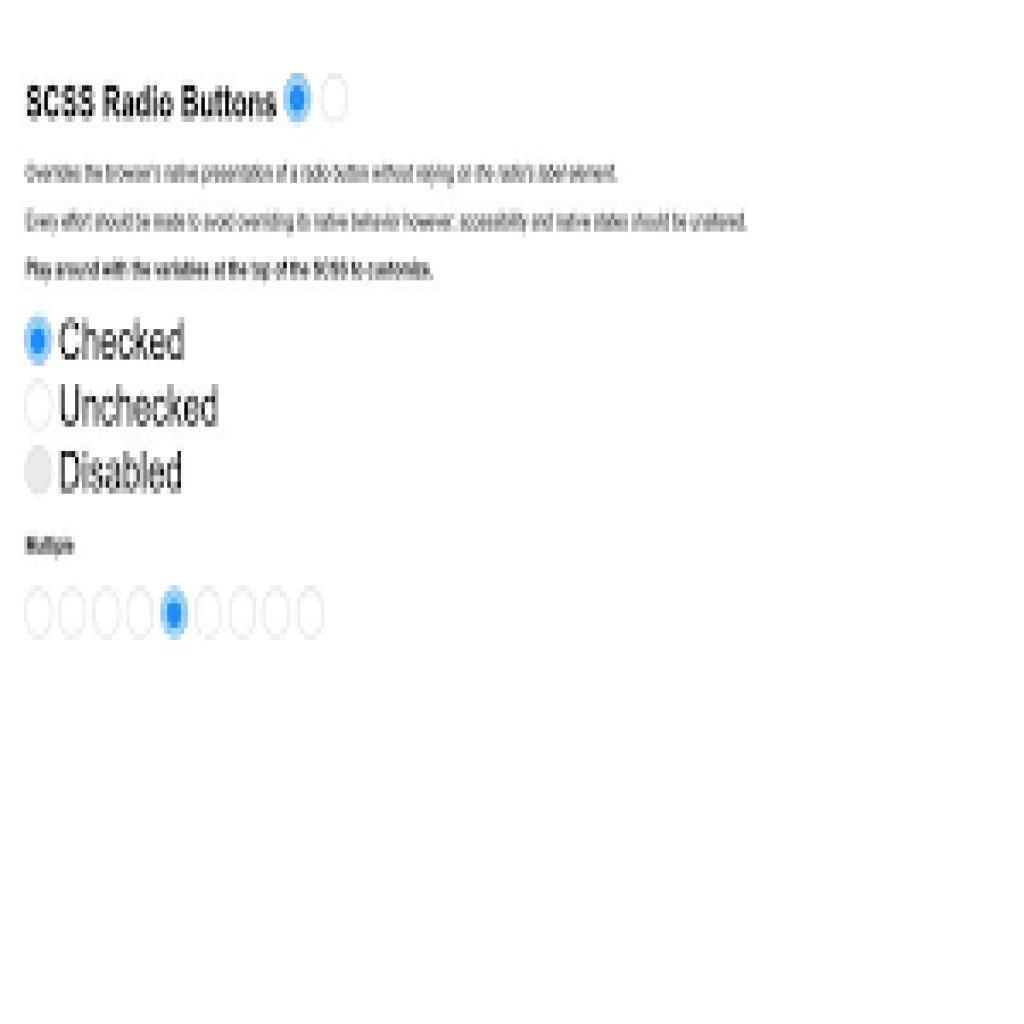radio: (123, 587, 153, 642), (296, 585, 326, 640), (23, 587, 54, 640), (227, 587, 258, 638), (195, 589, 224, 643), (24, 445, 54, 497), (321, 71, 350, 124), (92, 589, 123, 638), (24, 311, 50, 369), (162, 584, 188, 642), (24, 382, 54, 432), (285, 72, 312, 125), (262, 588, 289, 641), (59, 589, 86, 637)
